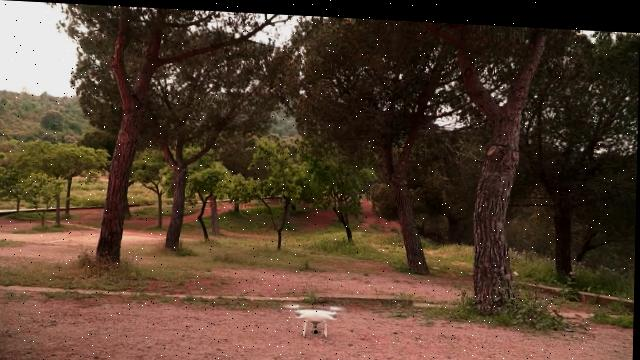drone: (282, 296, 348, 336)
